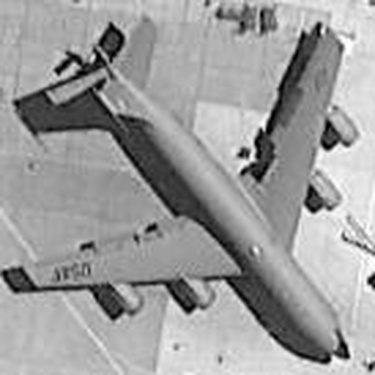airplane: (17, 7, 359, 368)
